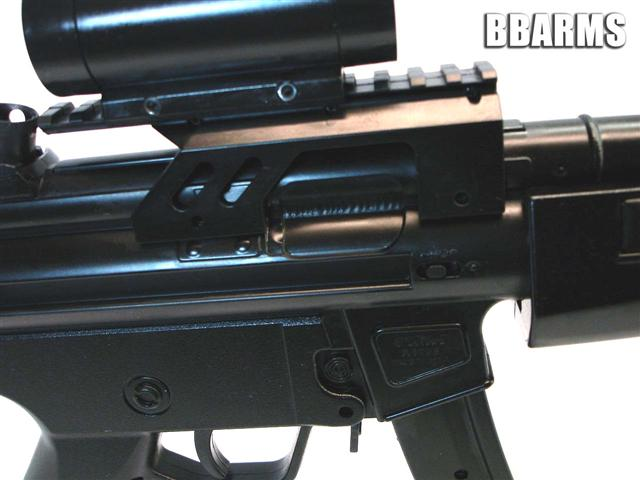rifle: (21, 8, 630, 472)
